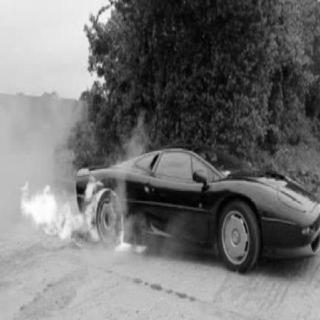Fire: (17, 175, 146, 258)
